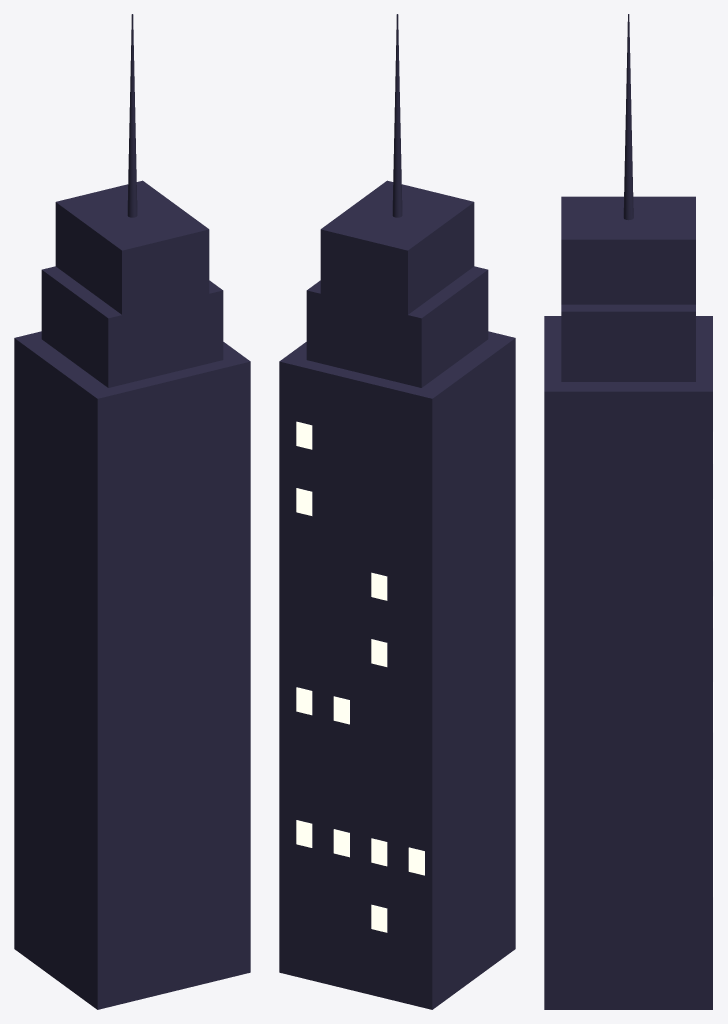
File: Tower4.fbx
3 renders of one model, left to right at view 1: azimuth 30°, elevation 25°; view 2: azimuth 150°, elevation 25°; view 3: azimuth 270°, elevation 25°, orthographic.
Visible parts, largest first — view 1: Tower; view 2: Tower, Windows; view 3: Tower.
Boxes of the visible parts, x1,y1,x2,y2 form: Tower: [14, 14, 250, 1009]; Tower: [279, 14, 515, 1009]; Windows: [296, 421, 424, 932]; Tower: [544, 14, 712, 1009].
Bounding box in the file's own units: 5.31 × 31.36 × 5.02.
